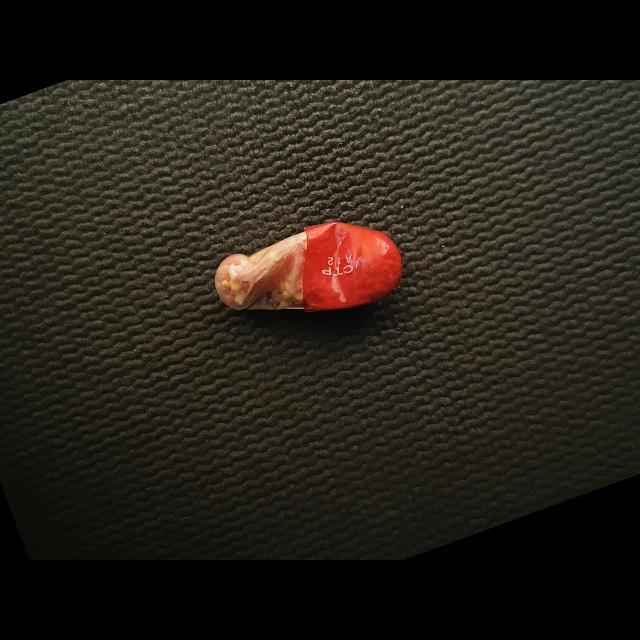Defective Capsule: (215, 222, 403, 313)
